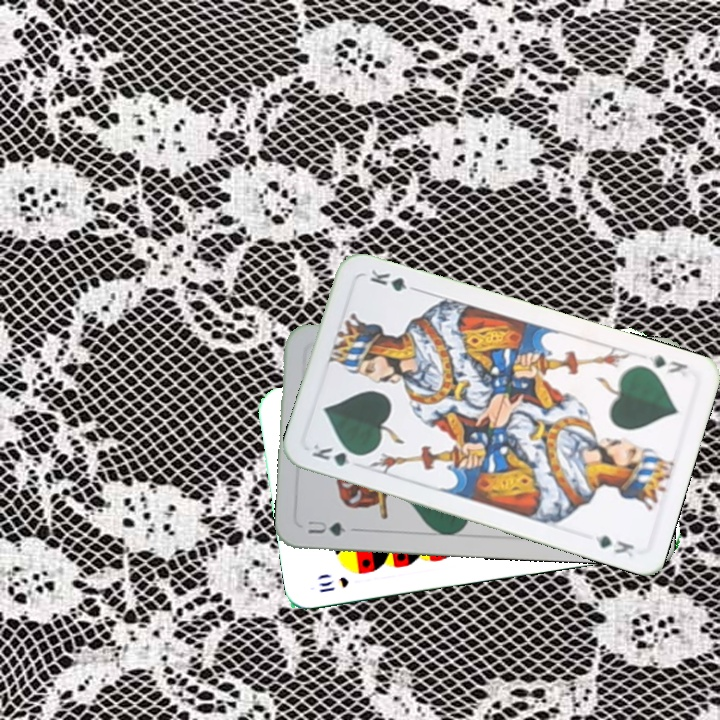GK: (308, 438, 366, 470), (643, 351, 691, 377)
GU: (304, 516, 348, 539)
S10: (315, 573, 351, 595)
